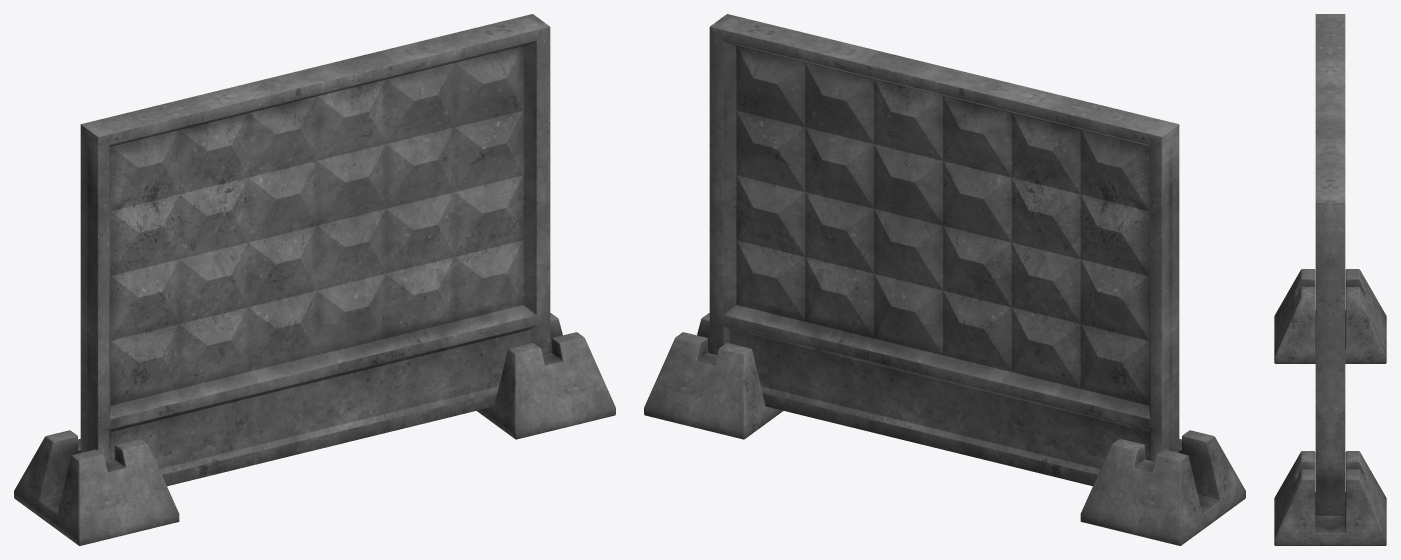
Rendered from wall.glb.
3 views of the same model, side by side, from view 1: azimuth 30°, elevation 25°; view 2: azimuth 150°, elevation 25°; view 3: azimuth 270°, elevation 25° (orthographic). The views are drawn at different scales.
Visible parts, largest first — view 1: Wall, Stones; view 2: Wall, Stones; view 3: Wall, Stones.
Boxes of the visible parts, x1=… form: Wall: x1=80, y1=14, x2=550, y2=486; Stones: x1=14, y1=313, x2=615, y2=545; Wall: x1=709, y1=14, x2=1179, y2=486; Stones: x1=644, y1=313, x2=1245, y2=545; Wall: x1=1315, y1=14, x2=1345, y2=515; Stones: x1=1274, y1=269, x2=1386, y2=545.
Size of the model in its own units: 6.74 by 4.58 by 1.43.
1 material, 1 textured.
